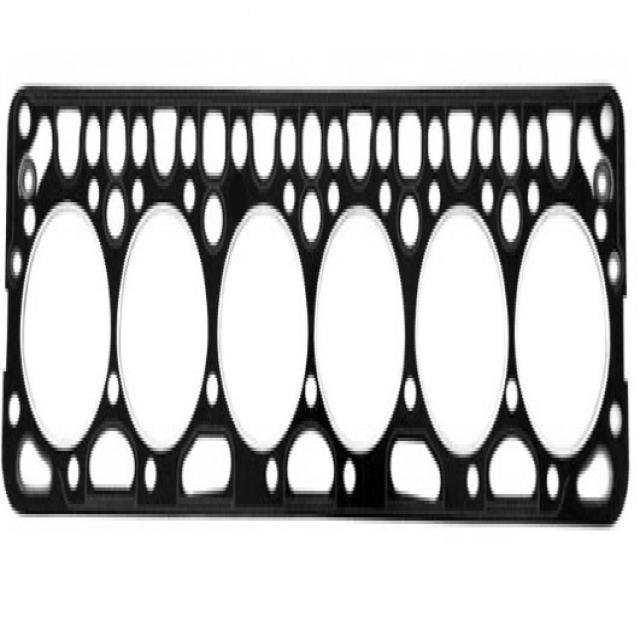missing hole: (227, 176, 250, 228)
